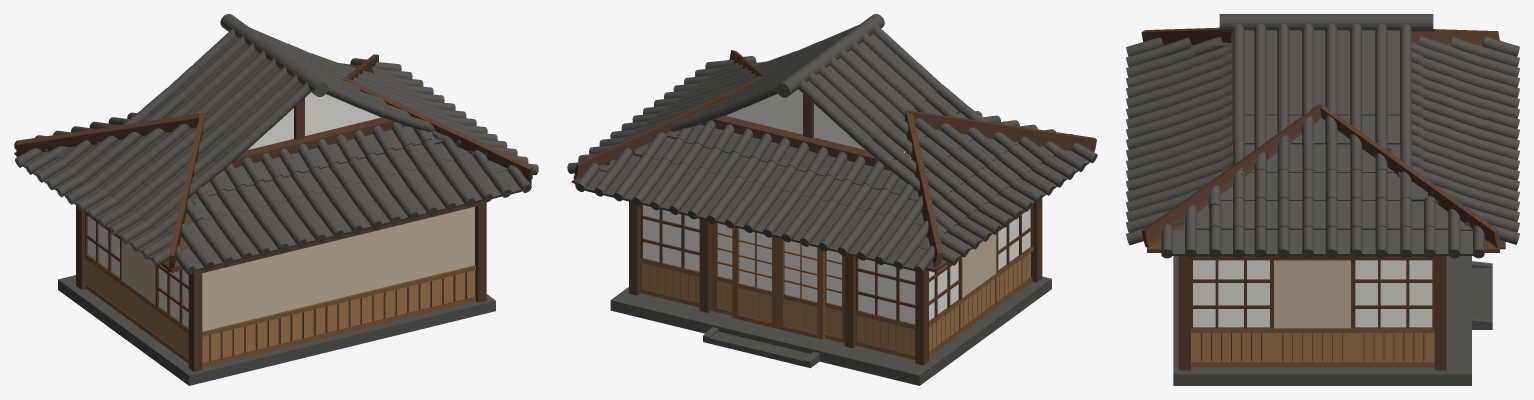
The model's file is dojo.glb.
3 views of the same model, side by side, from view 1: azimuth 30°, elevation 25°; view 2: azimuth 150°, elevation 25°; view 3: azimuth 270°, elevation 25° (orthographic). The views are drawn at different scales.
Visible parts, largest first — view 1: Cube.117, Cube.011, Cube.303, Cube.237, Cube.236, Cube.235, Cube.081, Cube.082, Cylinder.304, Cube.275, Cube.265, Cube.289 (+1 smaller); view 2: Cube.011, Cube.303, Cube.014, Cube.121, Cube.012, Cube.015, Cube.236, Cube.235, Cube.383, Cube.237, Cube.382, Cube.017 (+8 smaller); view 3: Cube.011, Cube.262, Cube.263, Cube.264, Cube.303, Cylinder.304, Cube.023, Cube.265, Cube.067, Cube.140, Cylinder.232, Cylinder.074 (+181 smaller).
Part boxes in pixels (x1,y1,x2,y2): Cube.117: (202, 207, 475, 367); Cube.011: (58, 275, 495, 385); Cube.303: (14, 54, 532, 272); Cube.237: (84, 212, 122, 314); Cube.236: (120, 238, 157, 340); Cube.235: (156, 264, 188, 363); Cube.081: (248, 92, 380, 149); Cube.082: (223, 116, 411, 170); Cylinder.304: (220, 14, 328, 96); Cube.275: (188, 270, 202, 371); Cube.265: (475, 201, 486, 302); Cube.289: (201, 202, 478, 273); Cube.011: (610, 276, 1051, 385); Cube.303: (571, 50, 1096, 272); Cube.014: (855, 257, 915, 359); Cube.121: (640, 204, 699, 307); Cube.012: (777, 238, 824, 339); Cube.015: (732, 227, 777, 328); Cube.236: (959, 233, 997, 333); Cube.235: (996, 204, 1033, 307); Cube.383: (725, 89, 911, 158); Cube.237: (929, 257, 961, 356); Cube.382: (694, 113, 890, 170); Cube.017: (711, 223, 732, 315); Cube.011: (1173, 256, 1471, 385); Cube.262: (1353, 260, 1434, 367); Cube.263: (1272, 260, 1353, 367); Cube.264: (1191, 260, 1271, 367); Cube.303: (1141, 27, 1505, 252); Cylinder.304: (1219, 14, 1433, 31); Cube.023: (1434, 256, 1446, 370); Cube.265: (1178, 256, 1190, 370); Cube.067: (1472, 268, 1492, 318); Cube.140: (1362, 85, 1375, 115); Cylinder.232: (1482, 36, 1519, 56); Cylinder.074: (1448, 224, 1460, 258).
Bounding box in the file's own units: 11.5 × 7.15 × 8.94.
